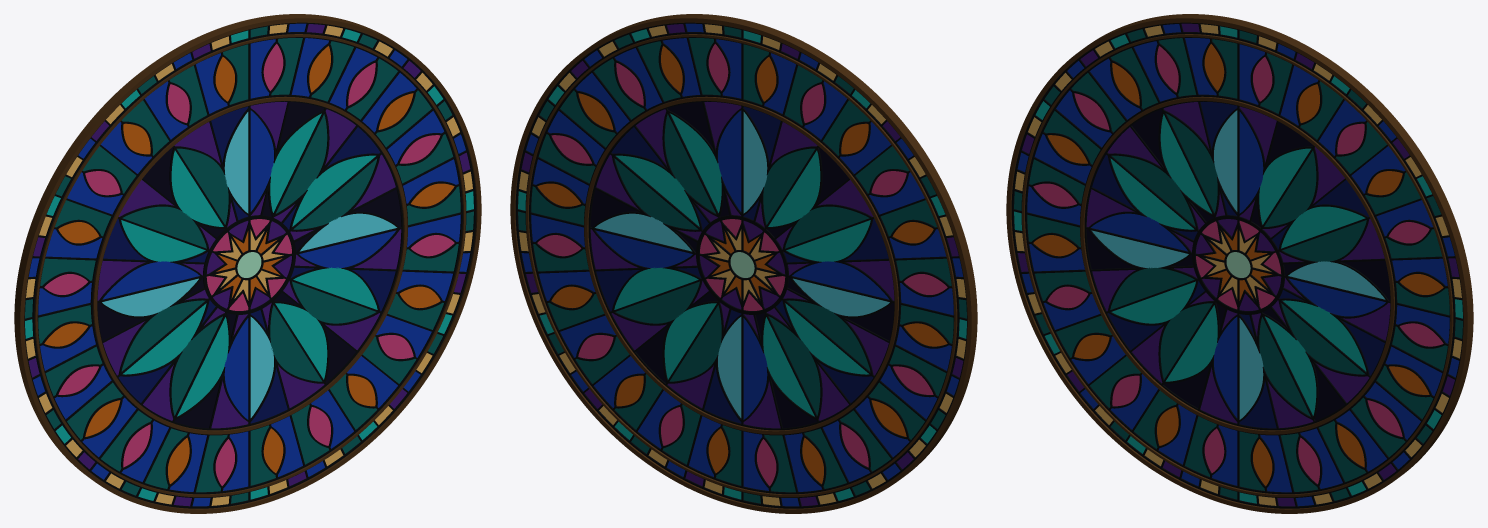
The model's file is rose_window.obj.
The picture shows the model from 3 angles, left to right: view 1: azimuth 30°, elevation 25°; view 2: azimuth 150°, elevation 25°; view 3: azimuth 330°, elevation 25°; orthographic projection.
Visible parts, largest first — view 1: Frame_lead, Glass_teal, Glass_blue, Frame_bronze, Glass_aqua, Glass_violet, Glass_rose, Glass_amber, Glass_ice, Glass_indigo, Glass_sapphire, Glass_champagne; view 2: Frame_lead, Glass_teal, Glass_blue, Frame_bronze, Glass_aqua, Glass_violet, Glass_rose, Glass_amber, Glass_ice, Glass_indigo, Glass_sapphire, Glass_champagne; view 3: Frame_lead, Glass_teal, Glass_blue, Frame_bronze, Glass_aqua, Glass_violet, Glass_rose, Glass_amber, Glass_ice, Glass_sapphire, Glass_indigo, Glass_champagne.
Boxes of the visible parts, left/top/right/bottom form: Frame_lead: left=24, top=22, right=476, bottom=508; Glass_teal: left=25, top=26, right=473, bottom=503; Glass_blue: left=28, top=23, right=470, bottom=506; Frame_bronze: left=14, top=14, right=481, bottom=513; Glass_aqua: left=25, top=29, right=473, bottom=500; Glass_violet: left=28, top=24, right=470, bottom=506; Glass_rose: left=44, top=44, right=454, bottom=485; Glass_amber: left=44, top=46, right=454, bottom=483; Glass_ice: left=102, top=112, right=396, bottom=417; Glass_indigo: left=97, top=102, right=401, bottom=428; Glass_sapphire: left=103, top=106, right=395, bottom=423; Glass_champagne: left=26, top=24, right=472, bottom=505; Frame_lead: left=515, top=22, right=967, bottom=508; Glass_teal: left=518, top=26, right=966, bottom=503; Glass_blue: left=521, top=23, right=963, bottom=506; Frame_bronze: left=510, top=14, right=977, bottom=513; Glass_aqua: left=518, top=29, right=966, bottom=500; Glass_violet: left=521, top=24, right=963, bottom=506; Glass_rose: left=537, top=44, right=947, bottom=485; Glass_amber: left=537, top=46, right=947, bottom=483; Glass_ice: left=595, top=112, right=889, bottom=417; Glass_indigo: left=590, top=102, right=894, bottom=428; Glass_sapphire: left=596, top=106, right=888, bottom=423; Glass_champagne: left=519, top=24, right=965, bottom=505; Frame_lead: left=1011, top=22, right=1463, bottom=508; Glass_teal: left=1014, top=29, right=1462, bottom=500; Glass_blue: left=1017, top=24, right=1459, bottom=506; Frame_bronze: left=1006, top=14, right=1473, bottom=513; Glass_aqua: left=1014, top=26, right=1462, bottom=503; Glass_violet: left=1017, top=23, right=1459, bottom=506; Glass_rose: left=1033, top=46, right=1443, bottom=483; Glass_amber: left=1033, top=44, right=1443, bottom=485; Glass_ice: left=1091, top=110, right=1385, bottom=419; Glass_sapphire: left=1092, top=101, right=1384, bottom=428; Glass_indigo: left=1086, top=109, right=1390, bottom=420; Glass_champagne: left=1015, top=24, right=1461, bottom=505.
Size of the model in its own units: 2 by 2 by 0.044.
